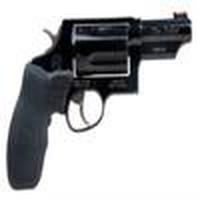gun: (4, 16, 193, 192)
